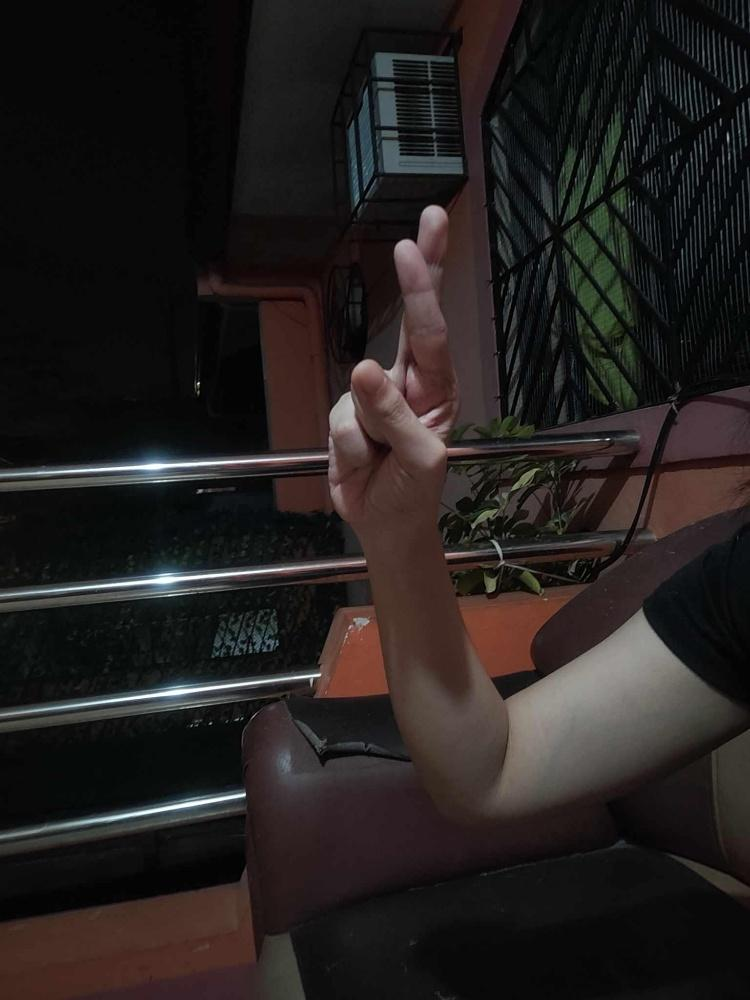r: (326, 203, 461, 531)
